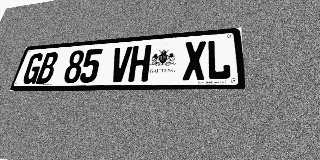5: (79, 48, 103, 83)
8: (62, 50, 86, 83)
B: (35, 52, 60, 84)
G: (21, 53, 45, 84)
H: (128, 45, 152, 82)
L: (207, 39, 231, 80)
V: (108, 46, 133, 82)
X: (183, 41, 206, 81)
